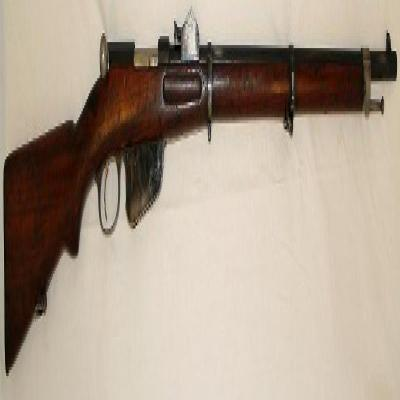weapon: (3, 12, 398, 373)
